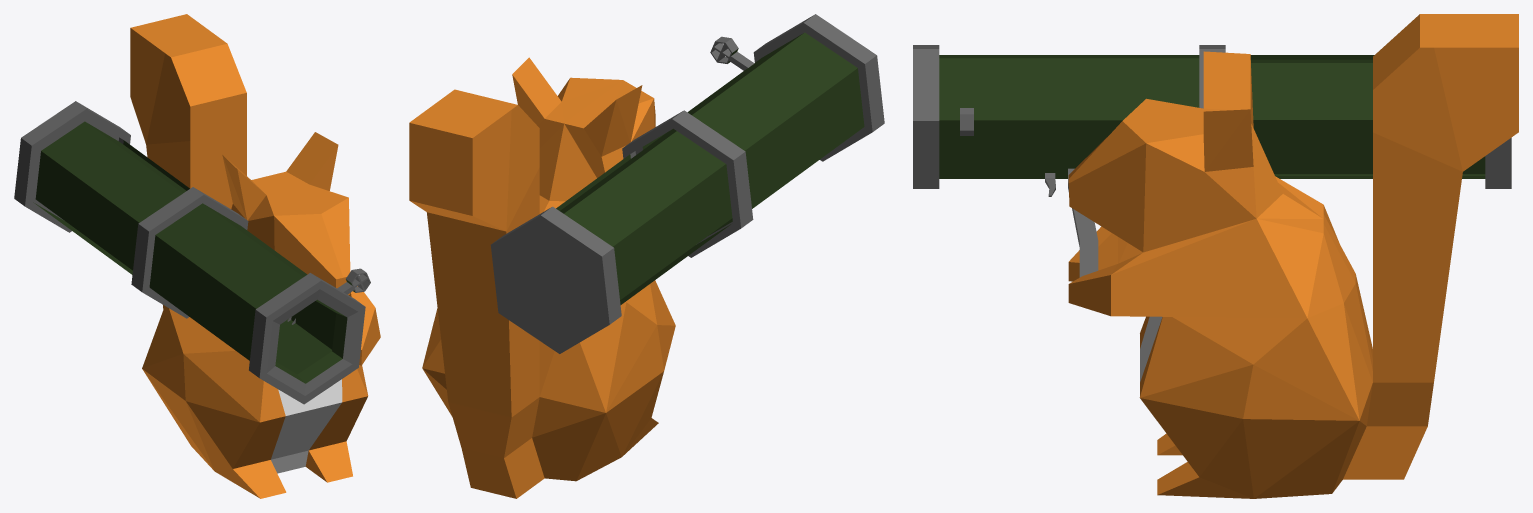
Rendered from Ardilla (1).fbx.
The picture shows the model from 3 angles, left to right: view 1: azimuth 30°, elevation 25°; view 2: azimuth 150°, elevation 25°; view 3: azimuth 270°, elevation 25°; orthographic projection. The views are drawn at different scales.
Visible parts, largest first — view 1: Cube; view 2: Cube; view 3: Cube.
Part boxes in pixels (left/top/right/bottom): Cube: left=14, top=14, right=380, bottom=498; Cube: left=409, top=14, right=884, bottom=498; Cube: left=913, top=14, right=1518, bottom=498.
Size of the model in its own units: 321 by 470 by 591.
